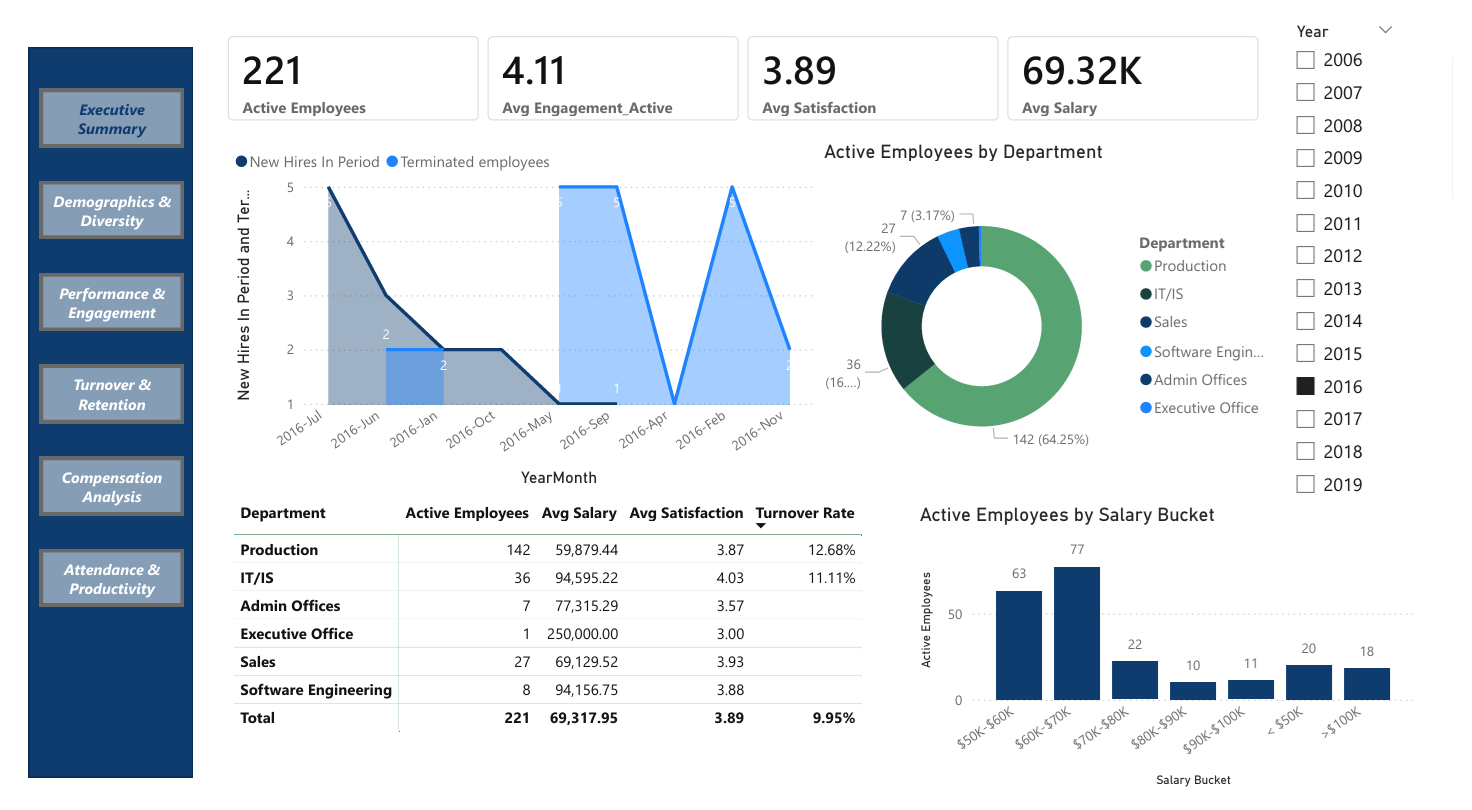

This screenshot's page, from the dashboard's own definition file:
{"tool":"powerbi","page":{"name":"Executive Summary","canvas":[1280,720],"ordinal":0},"visuals":[{"type":"shape","box":[13.6,27.2,146.9,648.8],"z":0},{"type":"cardVisual","fields":{"Data":["KPI.Active Employees","KPI.Avg Engagement","KPI.Avg Satisfaction","KPI.Avg Salary"]},"box":[174.1,0,953.2,108.9],"z":1000},{"type":"areaChart","title":"Terminations VS Hires ","fields":{"Category":["DateTable.YearMonth"],"Y":["KPI.9New Hires In Period","KPI.9Terminated employees"]},"box":[192.1,108.4,524.2,314.2],"z":2000},{"type":"lineClusteredColumnComboChart","fields":{"Category":["HRDataset_v14.Salary Bucket"],"Y":["KPI.Active Employees"]},"box":[801.4,432.2,448.7,256.6],"z":3000},{"type":"pivotTable","fields":{"Rows":["HRDataset_v14.Department"],"Values":["KPI.Active Employees","KPI.Avg Salary","KPI.Avg Satisfaction","KPI.Turnover Rate"]},"box":[192.1,422.6,598.3,297.8],"z":4000},{"type":"actionButton","box":[24.3,64.2,127.4,51.6],"z":5000},{"type":"actionButton","box":[24.3,145.9,127.4,51.6],"z":6000},{"type":"actionButton","box":[24.3,227.6,127.4,51.6],"z":7000},{"type":"actionButton","box":[24.3,309.3,127.4,51.6],"z":8000},{"type":"actionButton","box":[24.3,391,127.4,51.6],"z":9000},{"type":"actionButton","box":[24.3,472.7,127.4,51.6],"z":10000},{"type":"slicer","fields":{"Values":["DateTable.Year"]},"box":[1128,0,111.1,437.7],"z":11000},{"type":"donutChart","fields":{"Category":["HRDataset_v14.Department"],"Y":["KPI.1Active Employees"]},"box":[716,109,411,313],"z":12000}]}

Visuals, with their boxes in screenshot pixels (x1, y1, x2, y2), scaled from the page's 1280x720 canvas onto the 1472x810 screenshot:
shape: x1=16 y1=31 x2=185 y2=760
cardVisual - KPI.Active Employees x KPI.Avg Engagement: x1=200 y1=0 x2=1296 y2=123
"Terminations VS Hires " areaChart: x1=221 y1=122 x2=824 y2=475
lineClusteredColumnComboChart - HRDataset_v14.Salary Bucket x KPI.Active Employees: x1=922 y1=486 x2=1438 y2=775
pivotTable - HRDataset_v14.Department x KPI.Active Employees: x1=221 y1=475 x2=909 y2=809
actionButton: x1=28 y1=72 x2=174 y2=130
actionButton: x1=28 y1=164 x2=174 y2=222
actionButton: x1=28 y1=256 x2=174 y2=314
actionButton: x1=28 y1=348 x2=174 y2=406
actionButton: x1=28 y1=440 x2=174 y2=498
actionButton: x1=28 y1=532 x2=174 y2=590
slicer - DateTable.Year: x1=1297 y1=0 x2=1425 y2=492
donutChart - HRDataset_v14.Department x KPI.1Active Employees: x1=823 y1=123 x2=1296 y2=475
